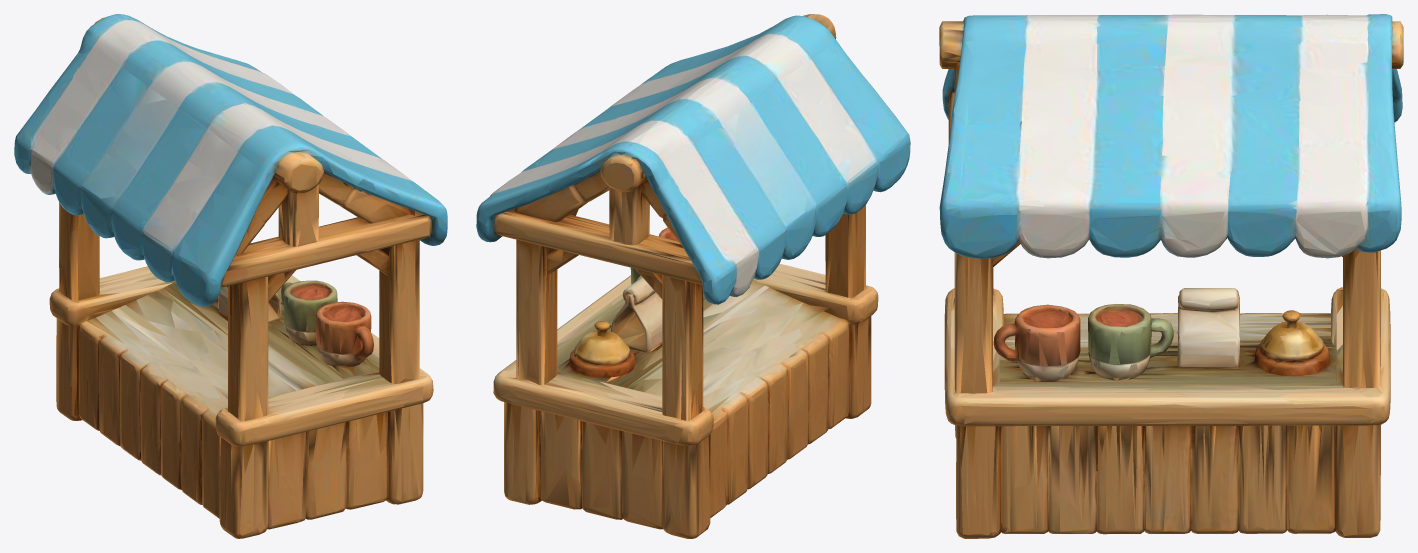
The picture shows the model from 3 angles, left to right: view 1: azimuth 30°, elevation 25°; view 2: azimuth 150°, elevation 25°; view 3: azimuth 270°, elevation 25°; orthographic projection. The views are drawn at different scales.
Parts seen in each view (by area): view 1: F12-cafe-kiosk; view 2: F12-cafe-kiosk; view 3: F12-cafe-kiosk.
Part boxes in pixels (x1,y1,x2,y2): F12-cafe-kiosk: (14, 14, 447, 538); F12-cafe-kiosk: (476, 14, 910, 538); F12-cafe-kiosk: (939, 14, 1403, 538).
Bounding box in the file's own units: 2.26 × 3.4 × 3.18.
1 material, 1 textured.
